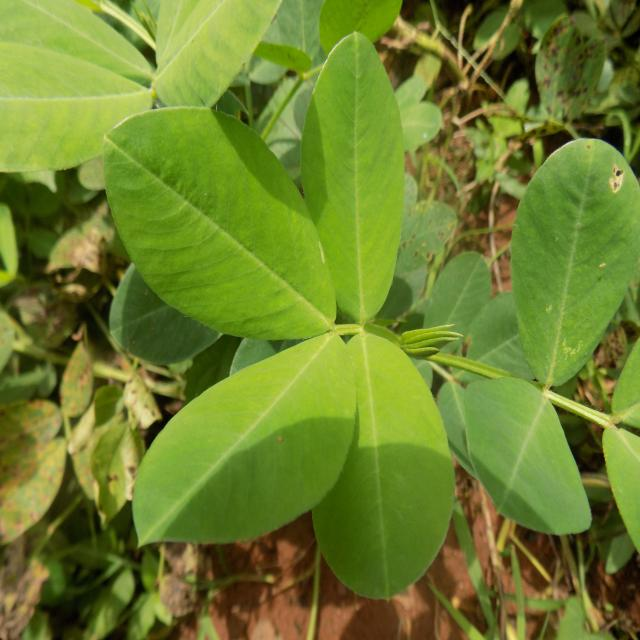Ground nut_healthy: (107, 106, 335, 336), (133, 338, 356, 542), (324, 328, 456, 595), (509, 137, 638, 381), (296, 33, 404, 321)
